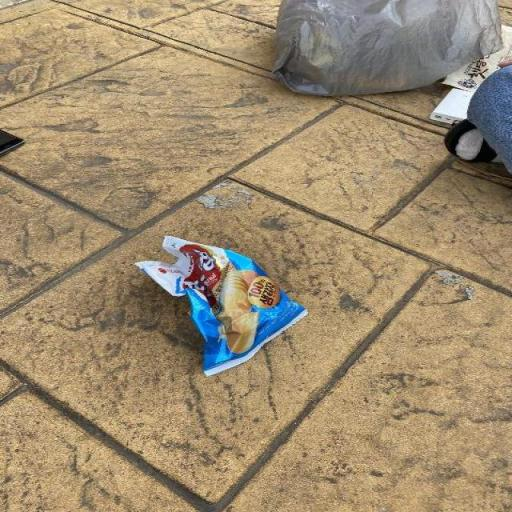plastic-bag: (132, 232, 308, 376)
